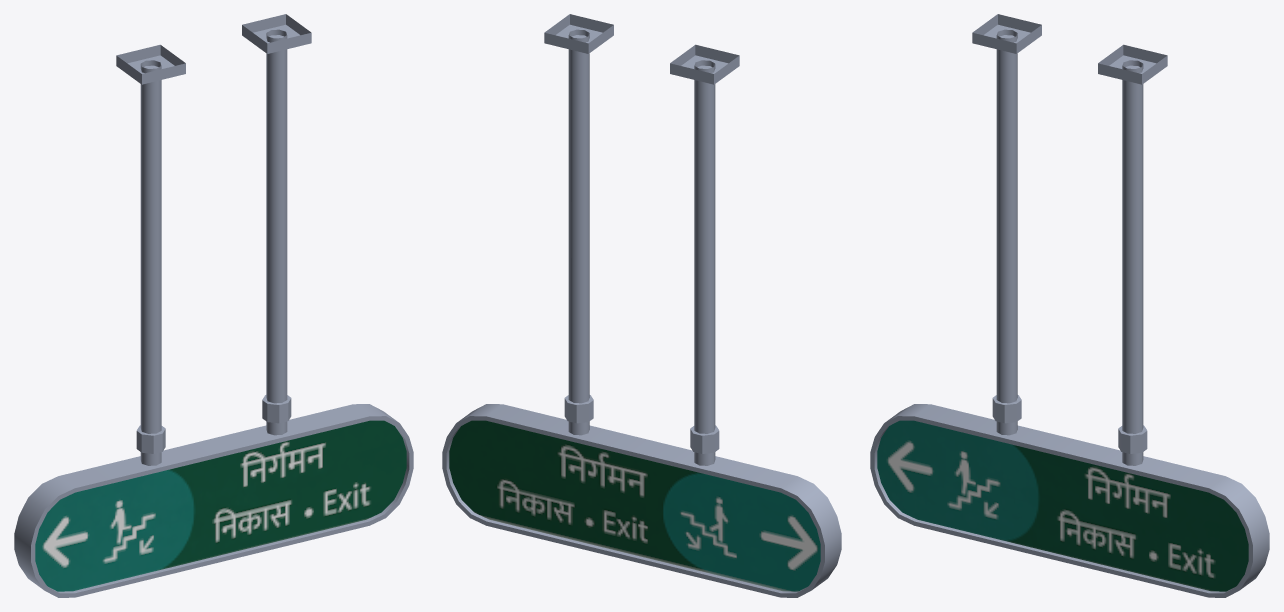
File: StationNameBoardHanging_1_002.fbx
The picture shows the model from 3 angles, left to right: view 1: azimuth 30°, elevation 25°; view 2: azimuth 150°, elevation 25°; view 3: azimuth 330°, elevation 25°; orthographic projection.
Visible parts, largest first — view 1: StationNameBoardHanging_1.002; view 2: StationNameBoardHanging_1.002; view 3: StationNameBoardHanging_1.002.
Boxes of the visible parts, x1,y1,x2,y2 form: StationNameBoardHanging_1.002: (14,14,413,597); StationNameBoardHanging_1.002: (442,14,841,597); StationNameBoardHanging_1.002: (870,14,1269,597).
Size of the model in its own units: 2.47 by 3.15 by 0.2846.
